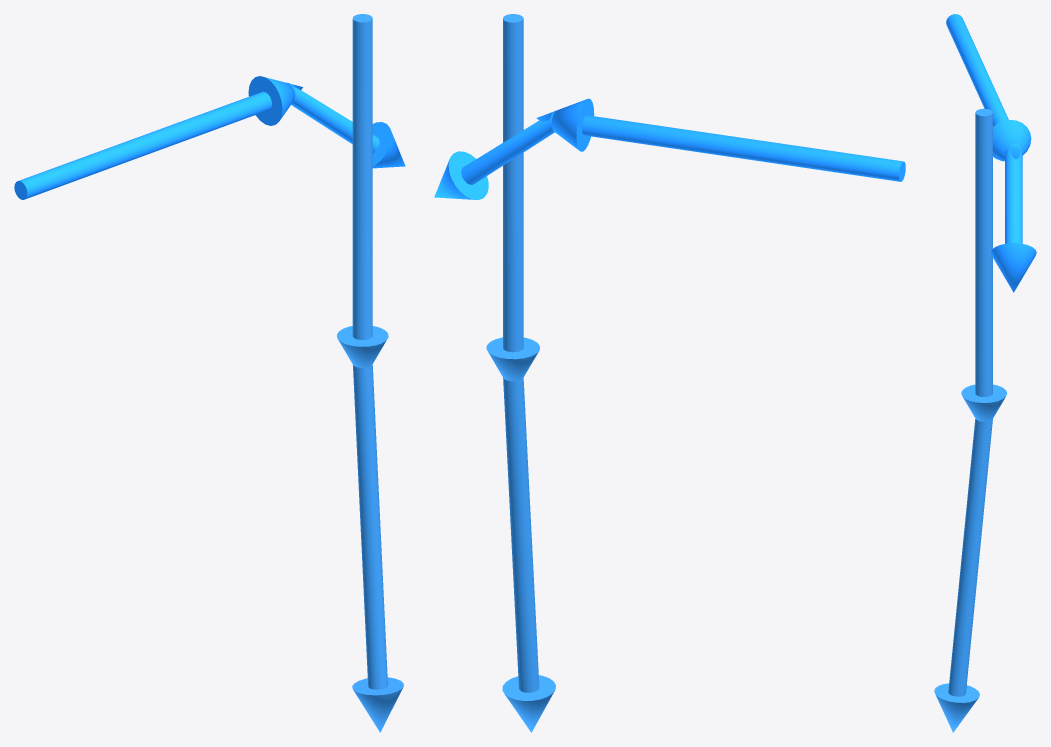
The model's file is cartridge_filter_flow.glb.
The picture shows the model from 3 angles, left to right: view 1: azimuth 30°, elevation 25°; view 2: azimuth 150°, elevation 25°; view 3: azimuth 270°, elevation 25°; orthographic projection. The views are drawn at different scales.
Visible parts, largest first — view 1: filtrate, dirty; view 2: filtrate, dirty; view 3: filtrate, dirty.
Boxes of the visible parts, left/top/right/bottom form: filtrate: left=337, top=14, right=403, bottom=732; dirty: left=14, top=76, right=405, bottom=199; filtrate: left=486, top=14, right=555, bottom=732; dirty: left=434, top=98, right=905, bottom=199; filtrate: left=934, top=108, right=1007, bottom=732; dirty: left=946, top=14, right=1036, bottom=292.
Bounding box in the file's own units: 0.7259 × 1.16 × 0.1738.
